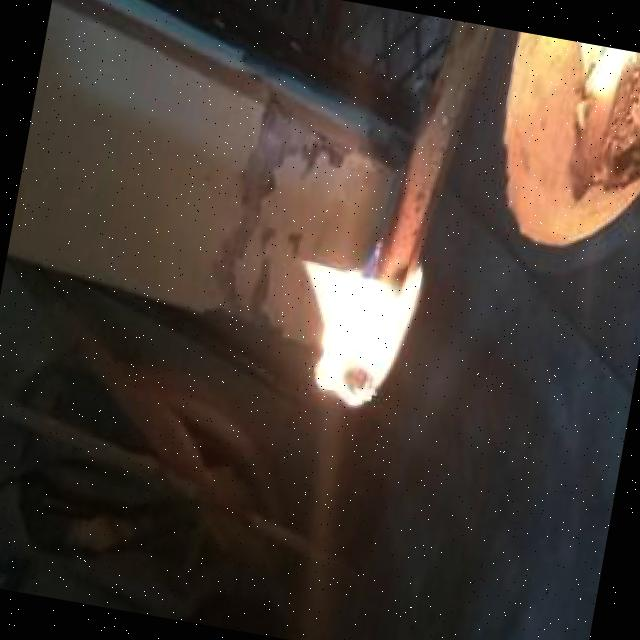fire: (271, 238, 433, 423)
